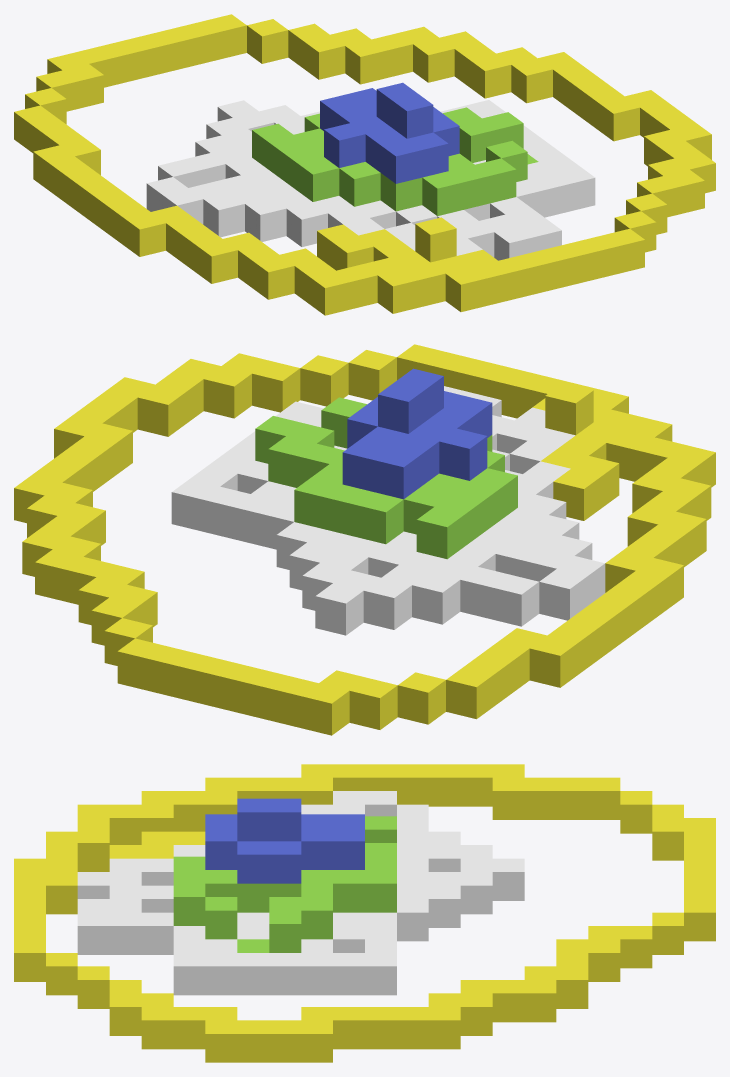
3 renders of one model, top to bottom at view 1: azimuth 30°, elevation 25°; view 2: azimuth 150°, elevation 25°; view 3: azimuth 270°, elevation 25°, orthographic. The views are drawn at different scales.
Visible parts, largest first — view 1: Layer.1; view 2: Layer.1; view 3: Layer.1.
Boxes of the visible parts, x1,y1,x2,y2 form: Layer.1: (14, 14, 715, 315); Layer.1: (14, 344, 715, 735); Layer.1: (14, 764, 715, 1062).
Bounding box in the file's own units: 20 × 4 × 22.
Materials: 1 (1 with a texture image).
